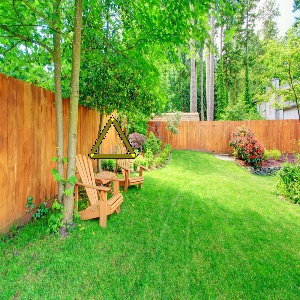triangle: (88, 114, 138, 160)
